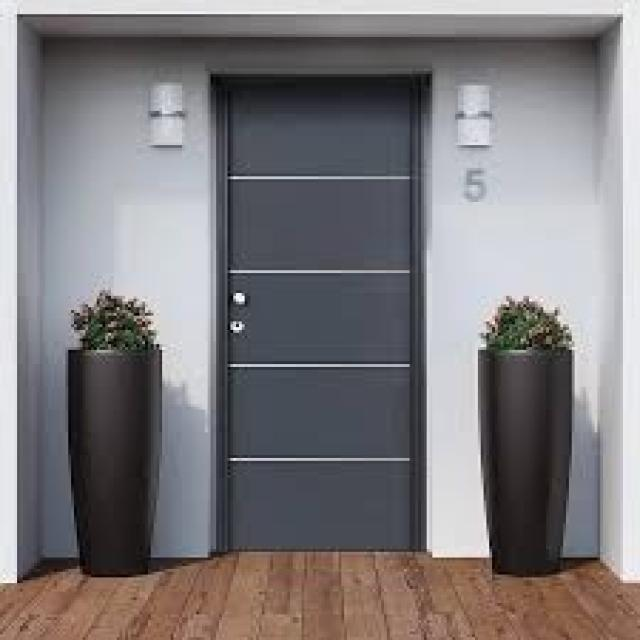door: (212, 72, 428, 554)
